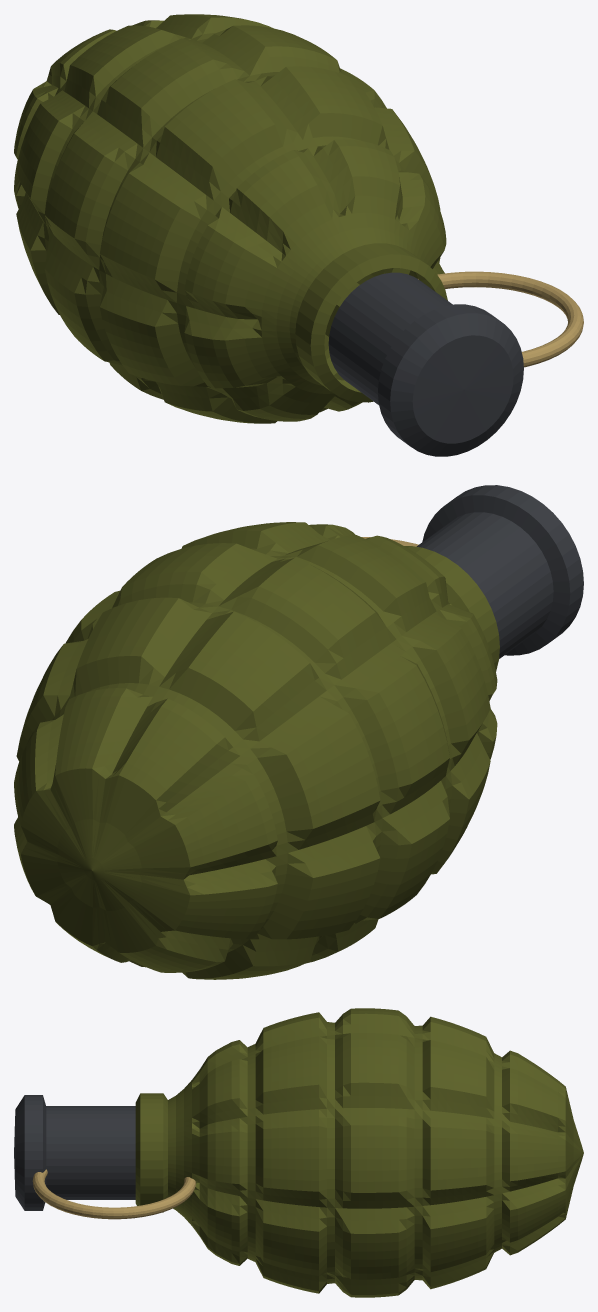
Rendered from SM_PineappleGrenade.obj.
3 renders of one model, top to bottom at view 1: azimuth 30°, elevation 25°; view 2: azimuth 150°, elevation 25°; view 3: azimuth 270°, elevation 25°, orthographic. The views are drawn at different scales.
Bounding box in the file's own units: 6.36 × 6.22 × 12.4.
